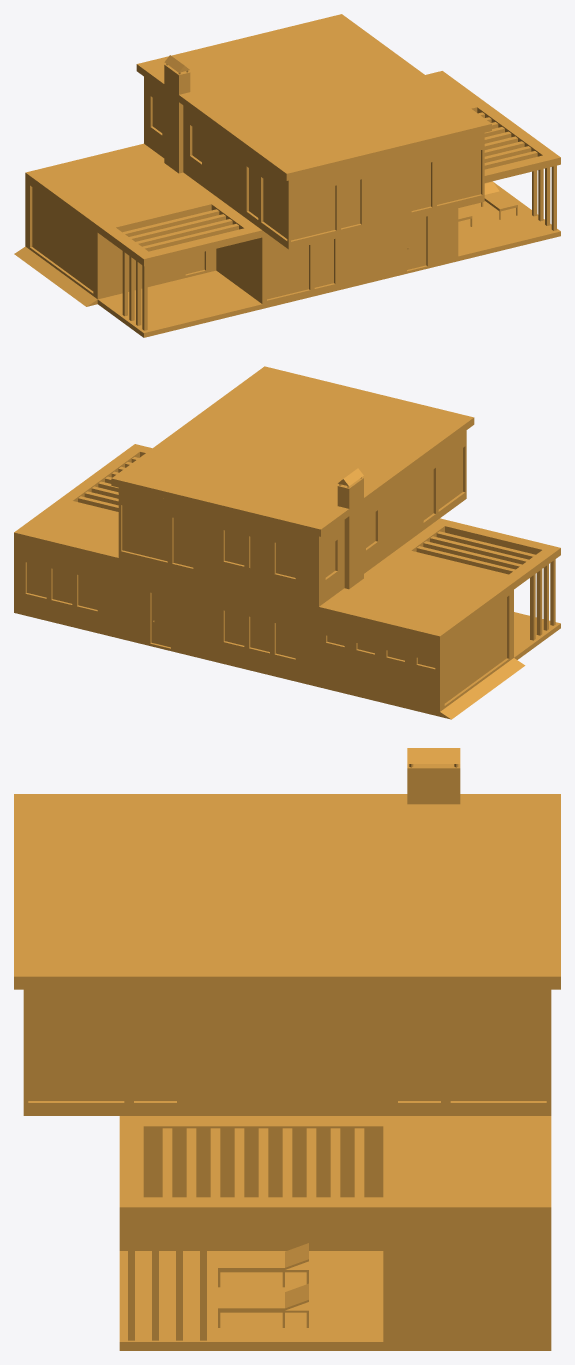
File: building-house-modern-big.fbx
The picture shows the model from 3 angles, top to bottom: view 1: azimuth 30°, elevation 25°; view 2: azimuth 150°, elevation 25°; view 3: azimuth 270°, elevation 25°; orthographic projection. The views are drawn at different scales.
Visible parts, largest first — view 1: building-house-modern-big; view 2: building-house-modern-big; view 3: building-house-modern-big.
Part boxes in pixels (x1,y1,x2,y2): building-house-modern-big: (14, 14, 560, 337); building-house-modern-big: (14, 366, 560, 719); building-house-modern-big: (14, 748, 560, 1350).
Bounding box in the file's own units: 18.8 × 7.77 × 11.4.
